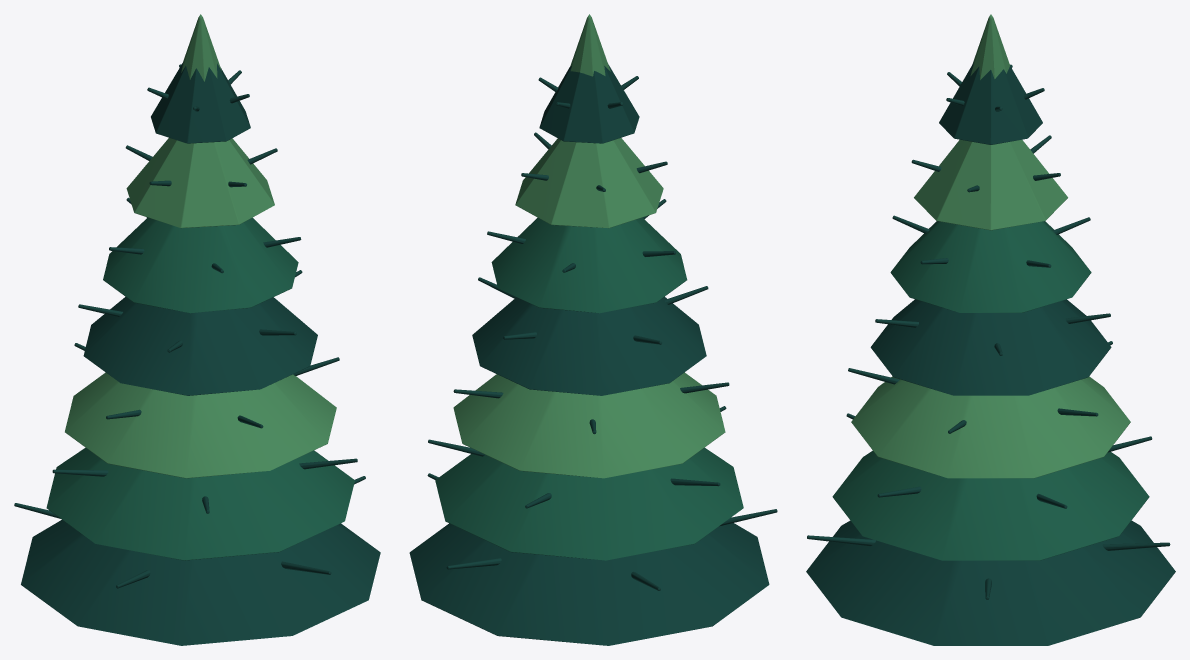
The model's file is tree_pine_lod1.glb.
3 views of the same model, side by side, from view 1: azimuth 30°, elevation 25°; view 2: azimuth 150°, elevation 25°; view 3: azimuth 270°, elevation 25° (orthographic).
Visible parts, largest first — view 1: Tall tapered pine trunk.001; view 2: Tall tapered pine trunk.001; view 3: Tall tapered pine trunk.001.
Part boxes in pixels (x1,y1,x2,y2): Tall tapered pine trunk.001: (14, 14, 380, 645); Tall tapered pine trunk.001: (409, 14, 777, 645); Tall tapered pine trunk.001: (806, 14, 1175, 645).
Size of the model in its own units: 4.52 by 8.23 by 4.58.
